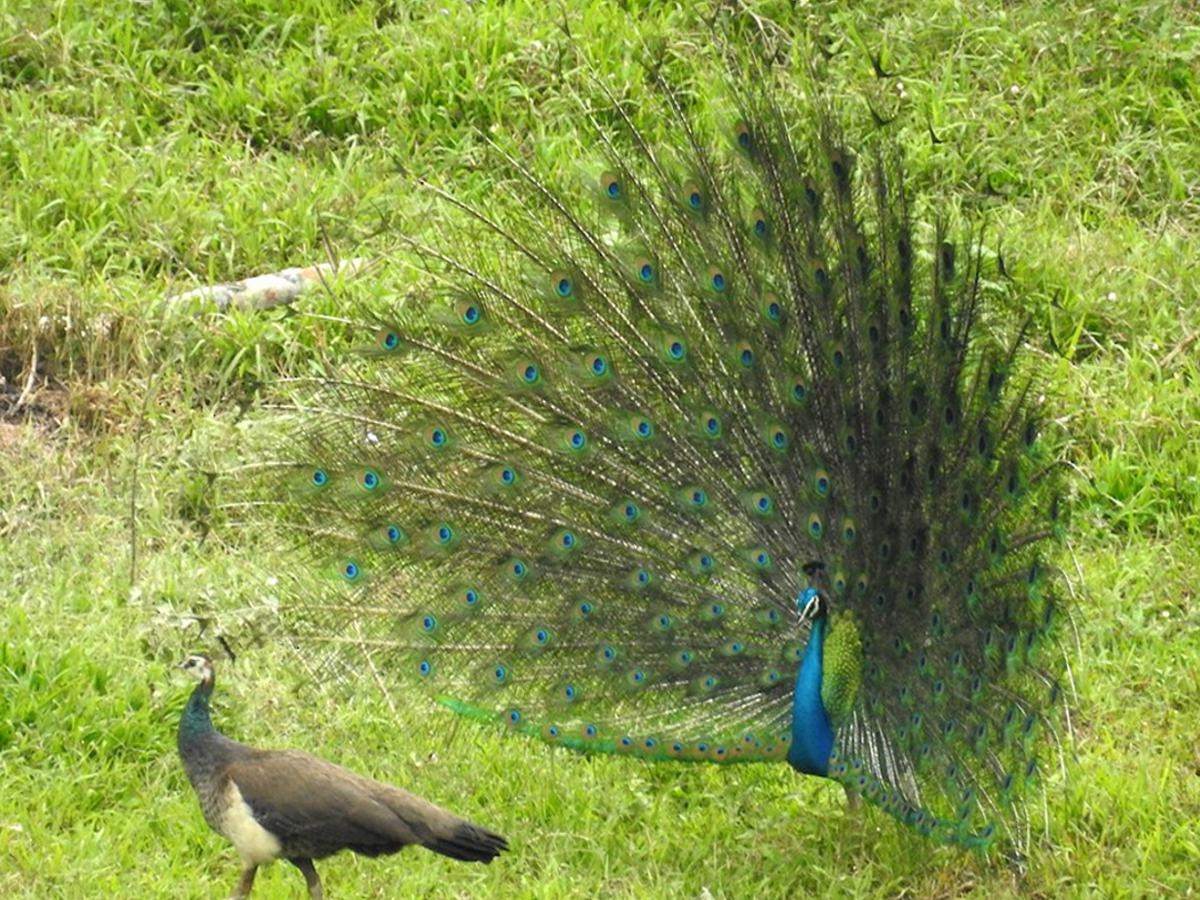peacock: (304, 113, 1103, 795)
